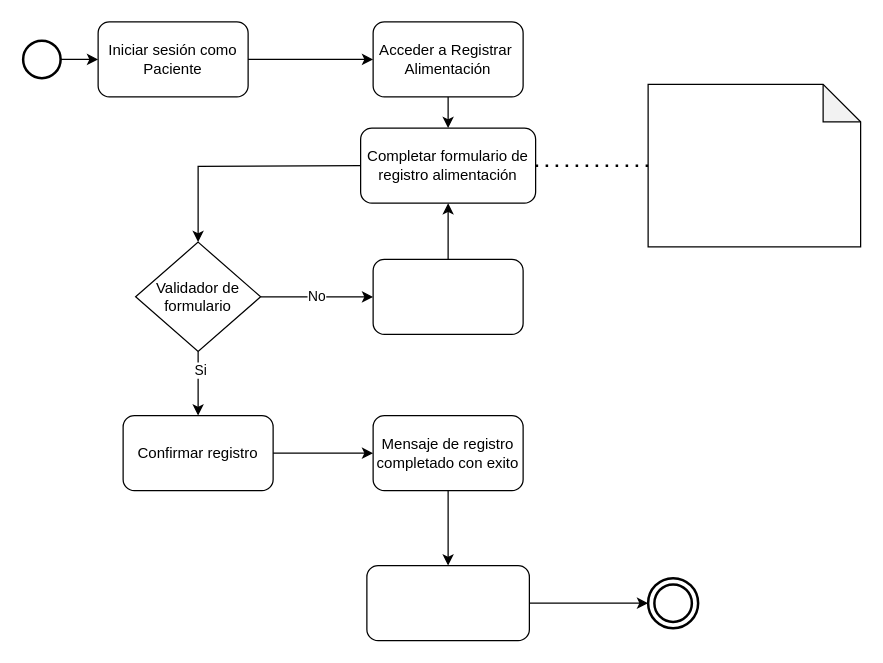
Some shapes in this 883 by 663 pixel diagram are drawn without their labels. Each missing label, with the centre of its shape:
Campos desplegados: - Alimentacion: (754,165)
Notificación de "Error al completar el formulario": (447,296)
Registro de alimentacion en base de datos: (447,602)
